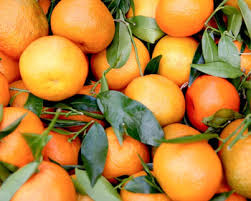orange: (151, 134, 223, 201), (20, 36, 90, 104), (122, 70, 188, 127), (185, 69, 242, 134), (89, 122, 153, 179), (3, 158, 76, 201)
